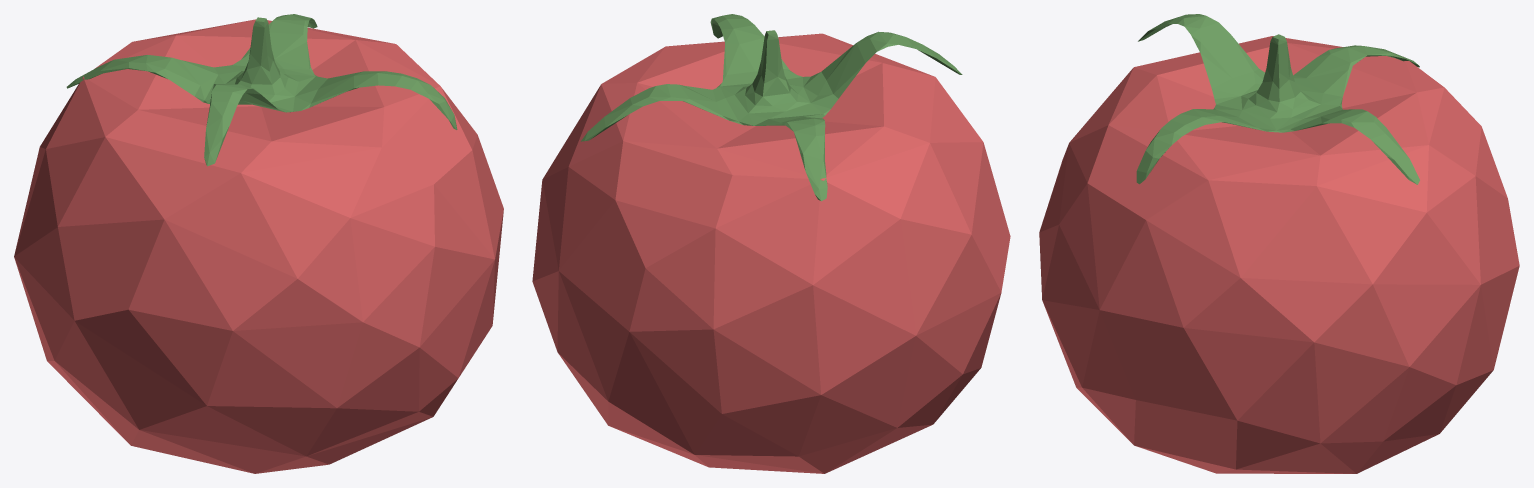
The model's file is BuahTomat.fbx.
3 renders of one model, left to right at view 1: azimuth 30°, elevation 25°; view 2: azimuth 150°, elevation 25°; view 3: azimuth 270°, elevation 25°, orthographic. The views are drawn at different scales.
Visible parts, largest first — view 1: BuahTomat.008; view 2: BuahTomat.008; view 3: BuahTomat.008.
Boxes of the visible parts, left/top/right/bottom form: BuahTomat.008: left=14, top=14, right=503, bottom=473; BuahTomat.008: left=532, top=14, right=1010, bottom=473; BuahTomat.008: left=1039, top=14, right=1519, bottom=473.
Size of the model in its own units: 9 by 8.5 by 9.05.
